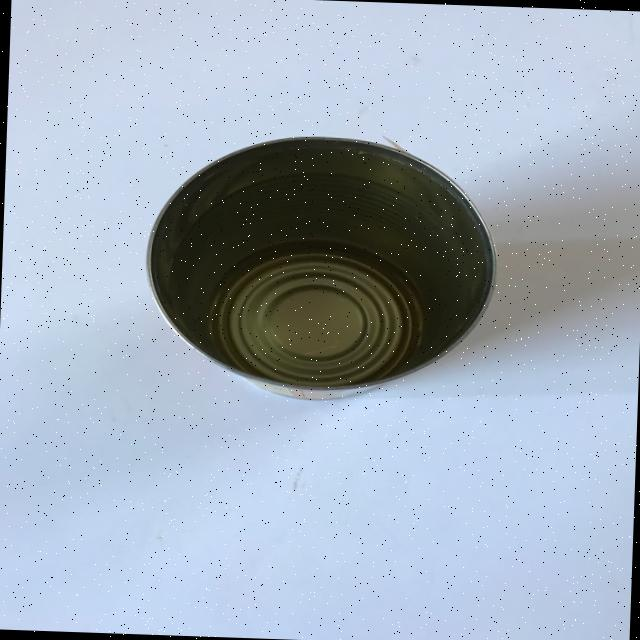metal: (140, 128, 502, 406)
